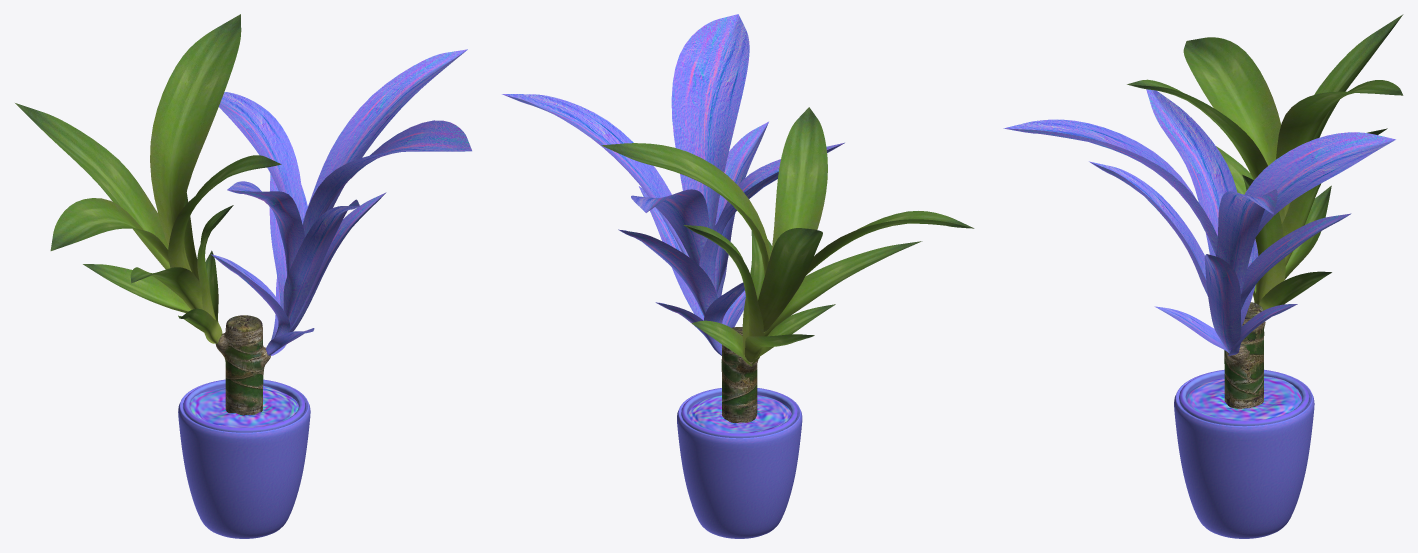
The model's file is plant.obj.
3 renders of one model, left to right at view 1: azimuth 30°, elevation 25°; view 2: azimuth 150°, elevation 25°; view 3: azimuth 270°, elevation 25°, orthographic. The views are drawn at different scales.
Visible parts, largest first — view 1: indoor_plant_02; view 2: indoor_plant_02; view 3: indoor_plant_02.
Boxes of the visible parts, bbox=[...] form: indoor_plant_02: bbox=[15, 14, 471, 538]; indoor_plant_02: bbox=[502, 14, 974, 538]; indoor_plant_02: bbox=[1003, 14, 1403, 538].
Bounding box in the file's own units: 6.82 × 6.22 × 4.86.
6 materials, 6 textured.
